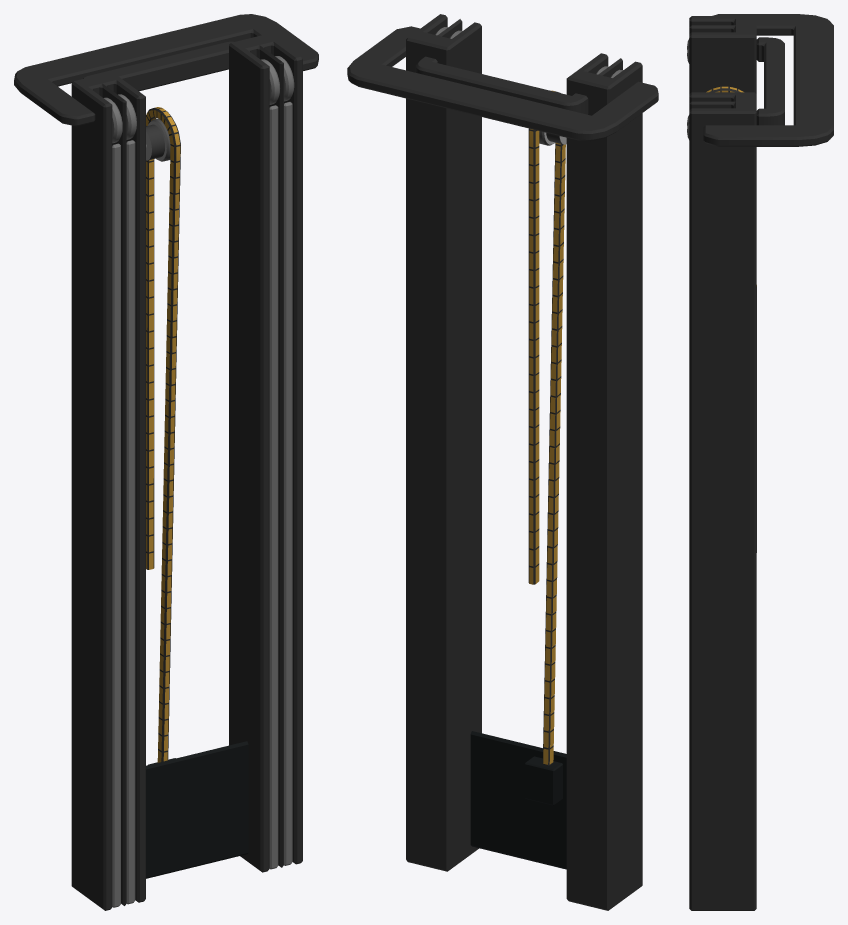
File: mast.glb
3 renders of one model, left to right at view 1: azimuth 30°, elevation 25°; view 2: azimuth 150°, elevation 25°; view 3: azimuth 270°, elevation 25°, orthographic. The views are drawn at different scales.
Parts seen in each view (by area): view 1: LIFTINGMECHANISM, CHAINSYSTEM_2.001, CHAINSYSTEM_2.002; view 2: LIFTINGMECHANISM, CHAINSYSTEM_2.001, CHAINSYSTEM_2.002; view 3: LIFTINGMECHANISM, CHAINSYSTEM_2.001.
Part boxes in pixels (x1=…): LIFTINGMECHANISM: x1=14, y1=14, x2=318, y2=910; CHAINSYSTEM_2.001: x1=146, y1=107, x2=180, y2=762; CHAINSYSTEM_2.002: x1=146, y1=741, x2=248, y2=878; LIFTINGMECHANISM: x1=347, y1=14, x2=658, y2=910; CHAINSYSTEM_2.001: x1=528, y1=90, x2=566, y2=765; CHAINSYSTEM_2.002: x1=470, y1=731, x2=566, y2=869; LIFTINGMECHANISM: x1=687, y1=14, x2=833, y2=910; CHAINSYSTEM_2.001: x1=706, y1=86, x2=756, y2=552.
Bounding box in the file's own units: 0.9026 × 2.69 × 0.4482.
Materials: 1 (1 with a texture image).
